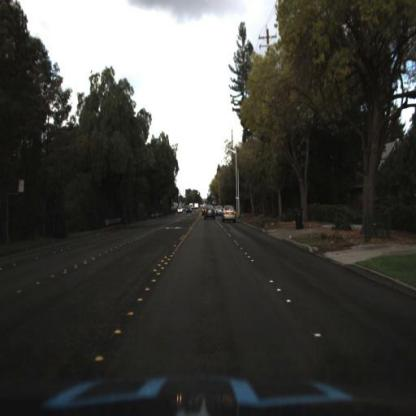car: (223, 203, 240, 226), (203, 203, 219, 226), (177, 202, 187, 218)
